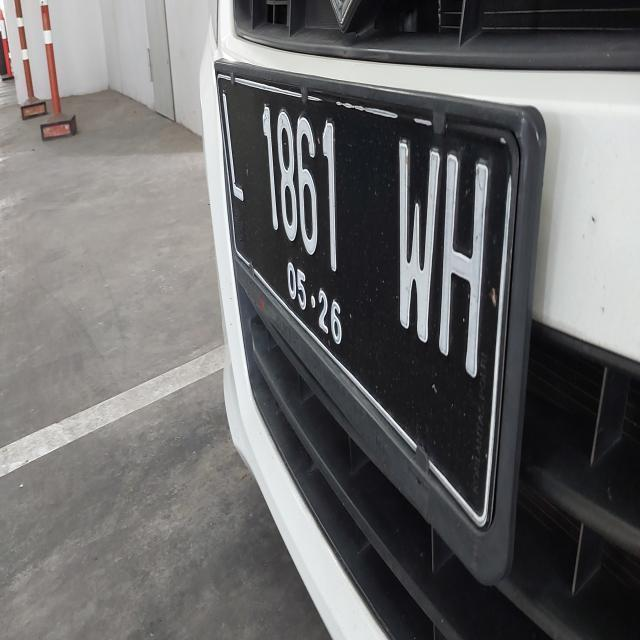1: (320, 110, 342, 279), (258, 99, 278, 235)
6: (296, 104, 320, 266)
8: (276, 103, 300, 248)
H: (442, 147, 490, 390)
L: (217, 84, 250, 208)
W: (394, 133, 442, 350)
